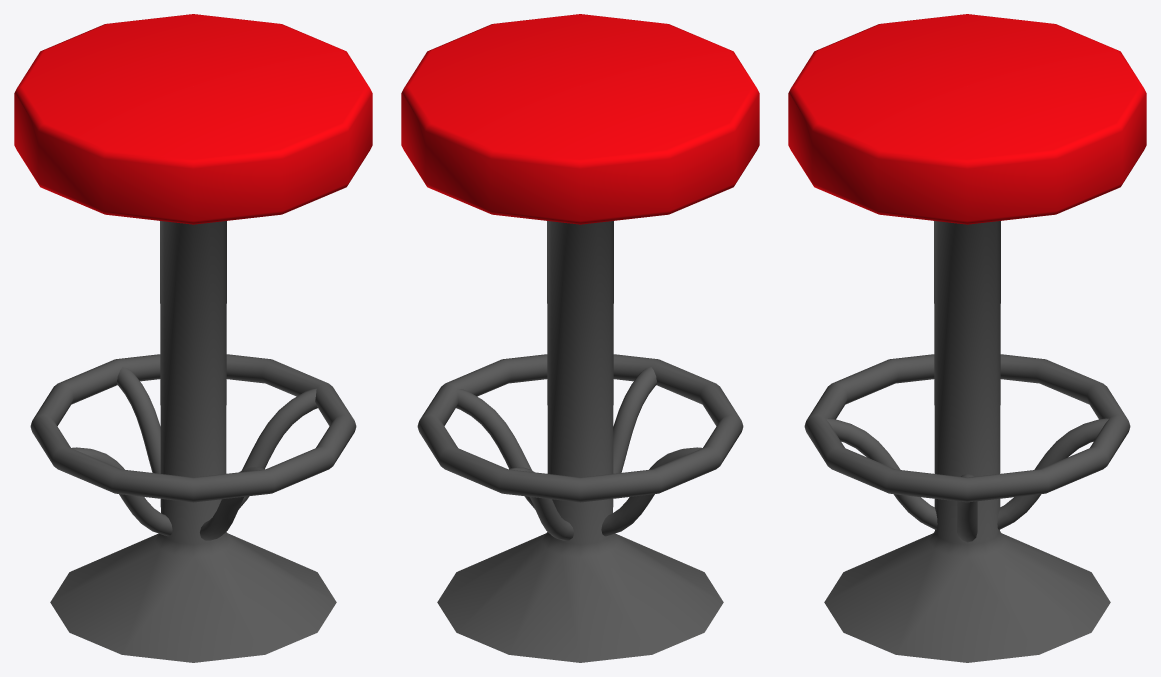
The model's file is barChair.fbx.
3 views of the same model, side by side, from view 1: azimuth 30°, elevation 25°; view 2: azimuth 150°, elevation 25°; view 3: azimuth 270°, elevation 25° (orthographic).
Visible parts, largest first — view 1: barChair; view 2: barChair; view 3: barChair.
Boxes of the visible parts, <box> form: barChair: <box>14,14,372,662</box>; barChair: <box>401,14,759,662</box>; barChair: <box>788,14,1146,662</box>.
Bounding box in the file's own units: 82.5 × 131 × 82.5.
